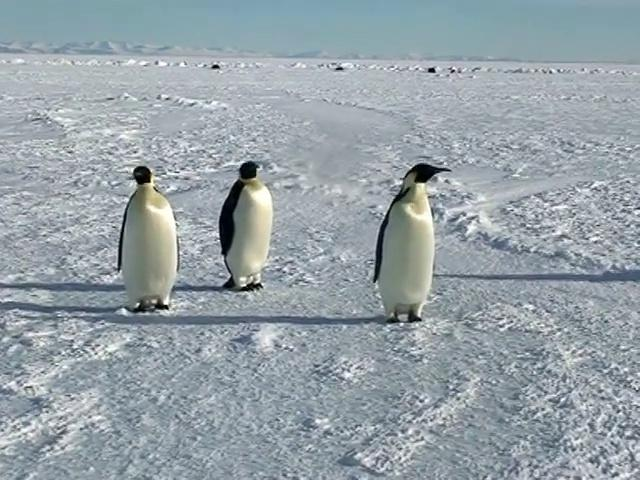animal: (373, 163, 449, 322)
